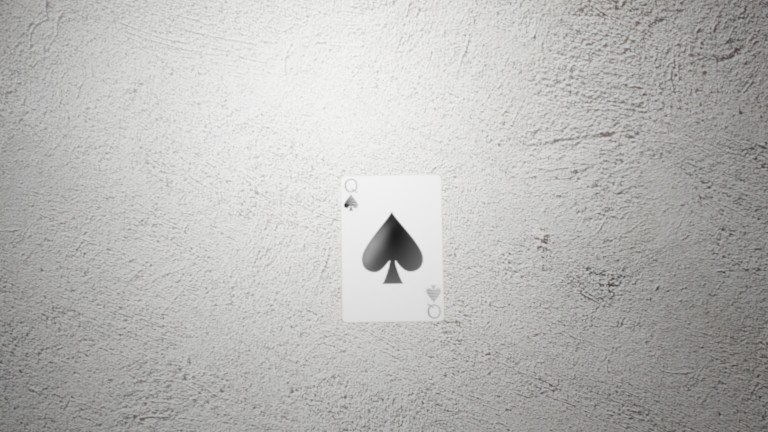queen_of_spades: (170, 114, 178, 128), (137, 71, 144, 85)
